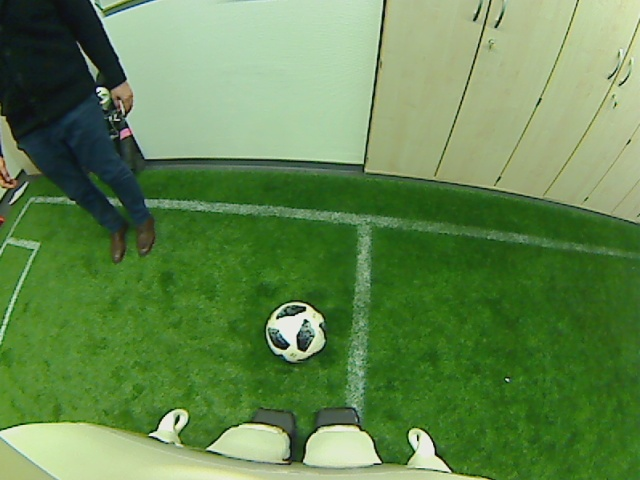ball: (264, 301, 327, 364)
